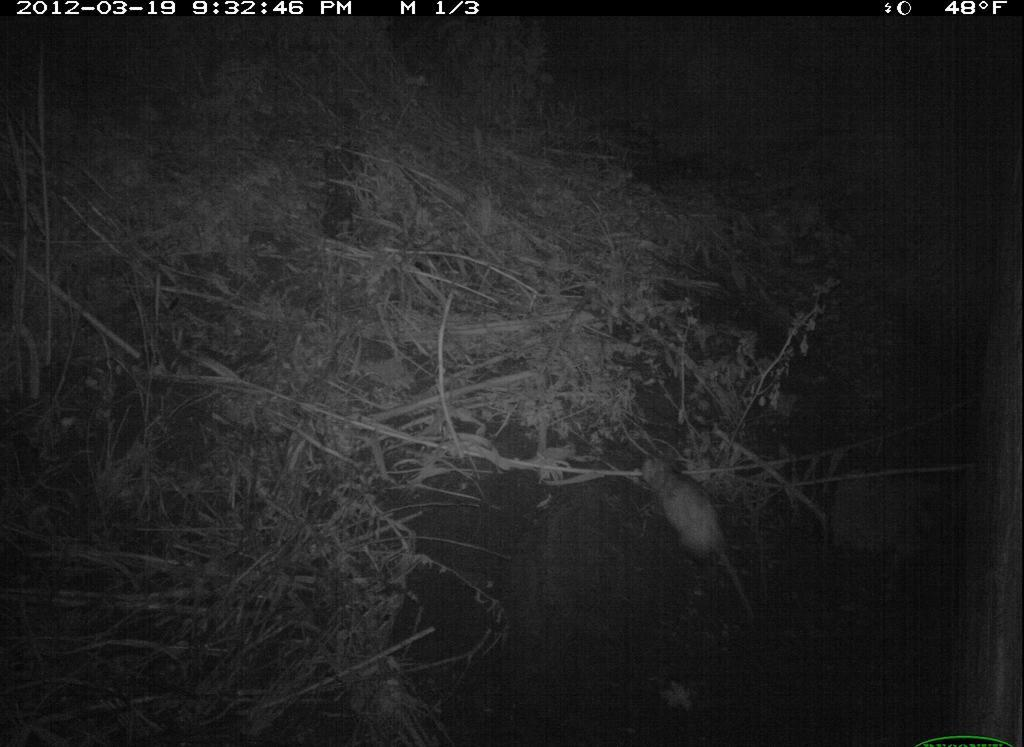opossum: (636, 448, 765, 629)
